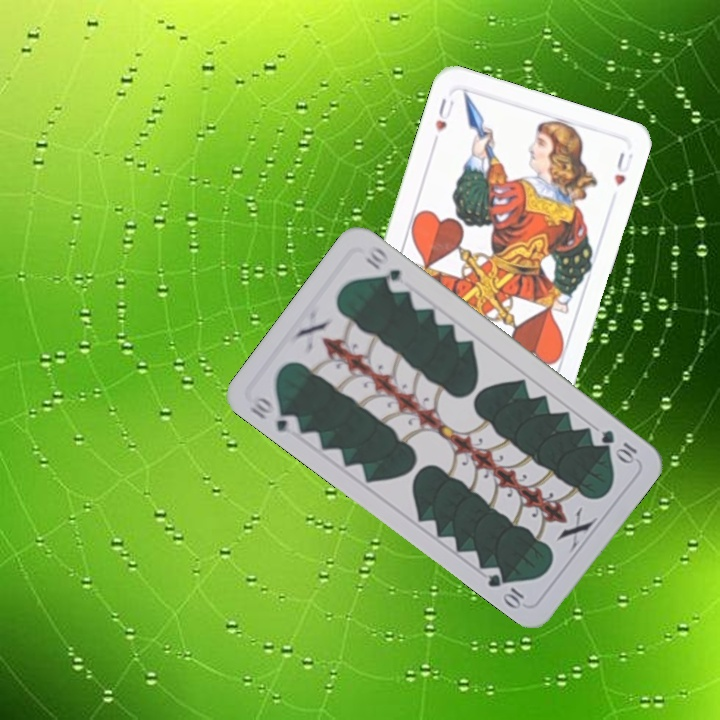G10: (245, 391, 302, 438), (597, 425, 640, 466)
HU: (431, 94, 457, 135)
